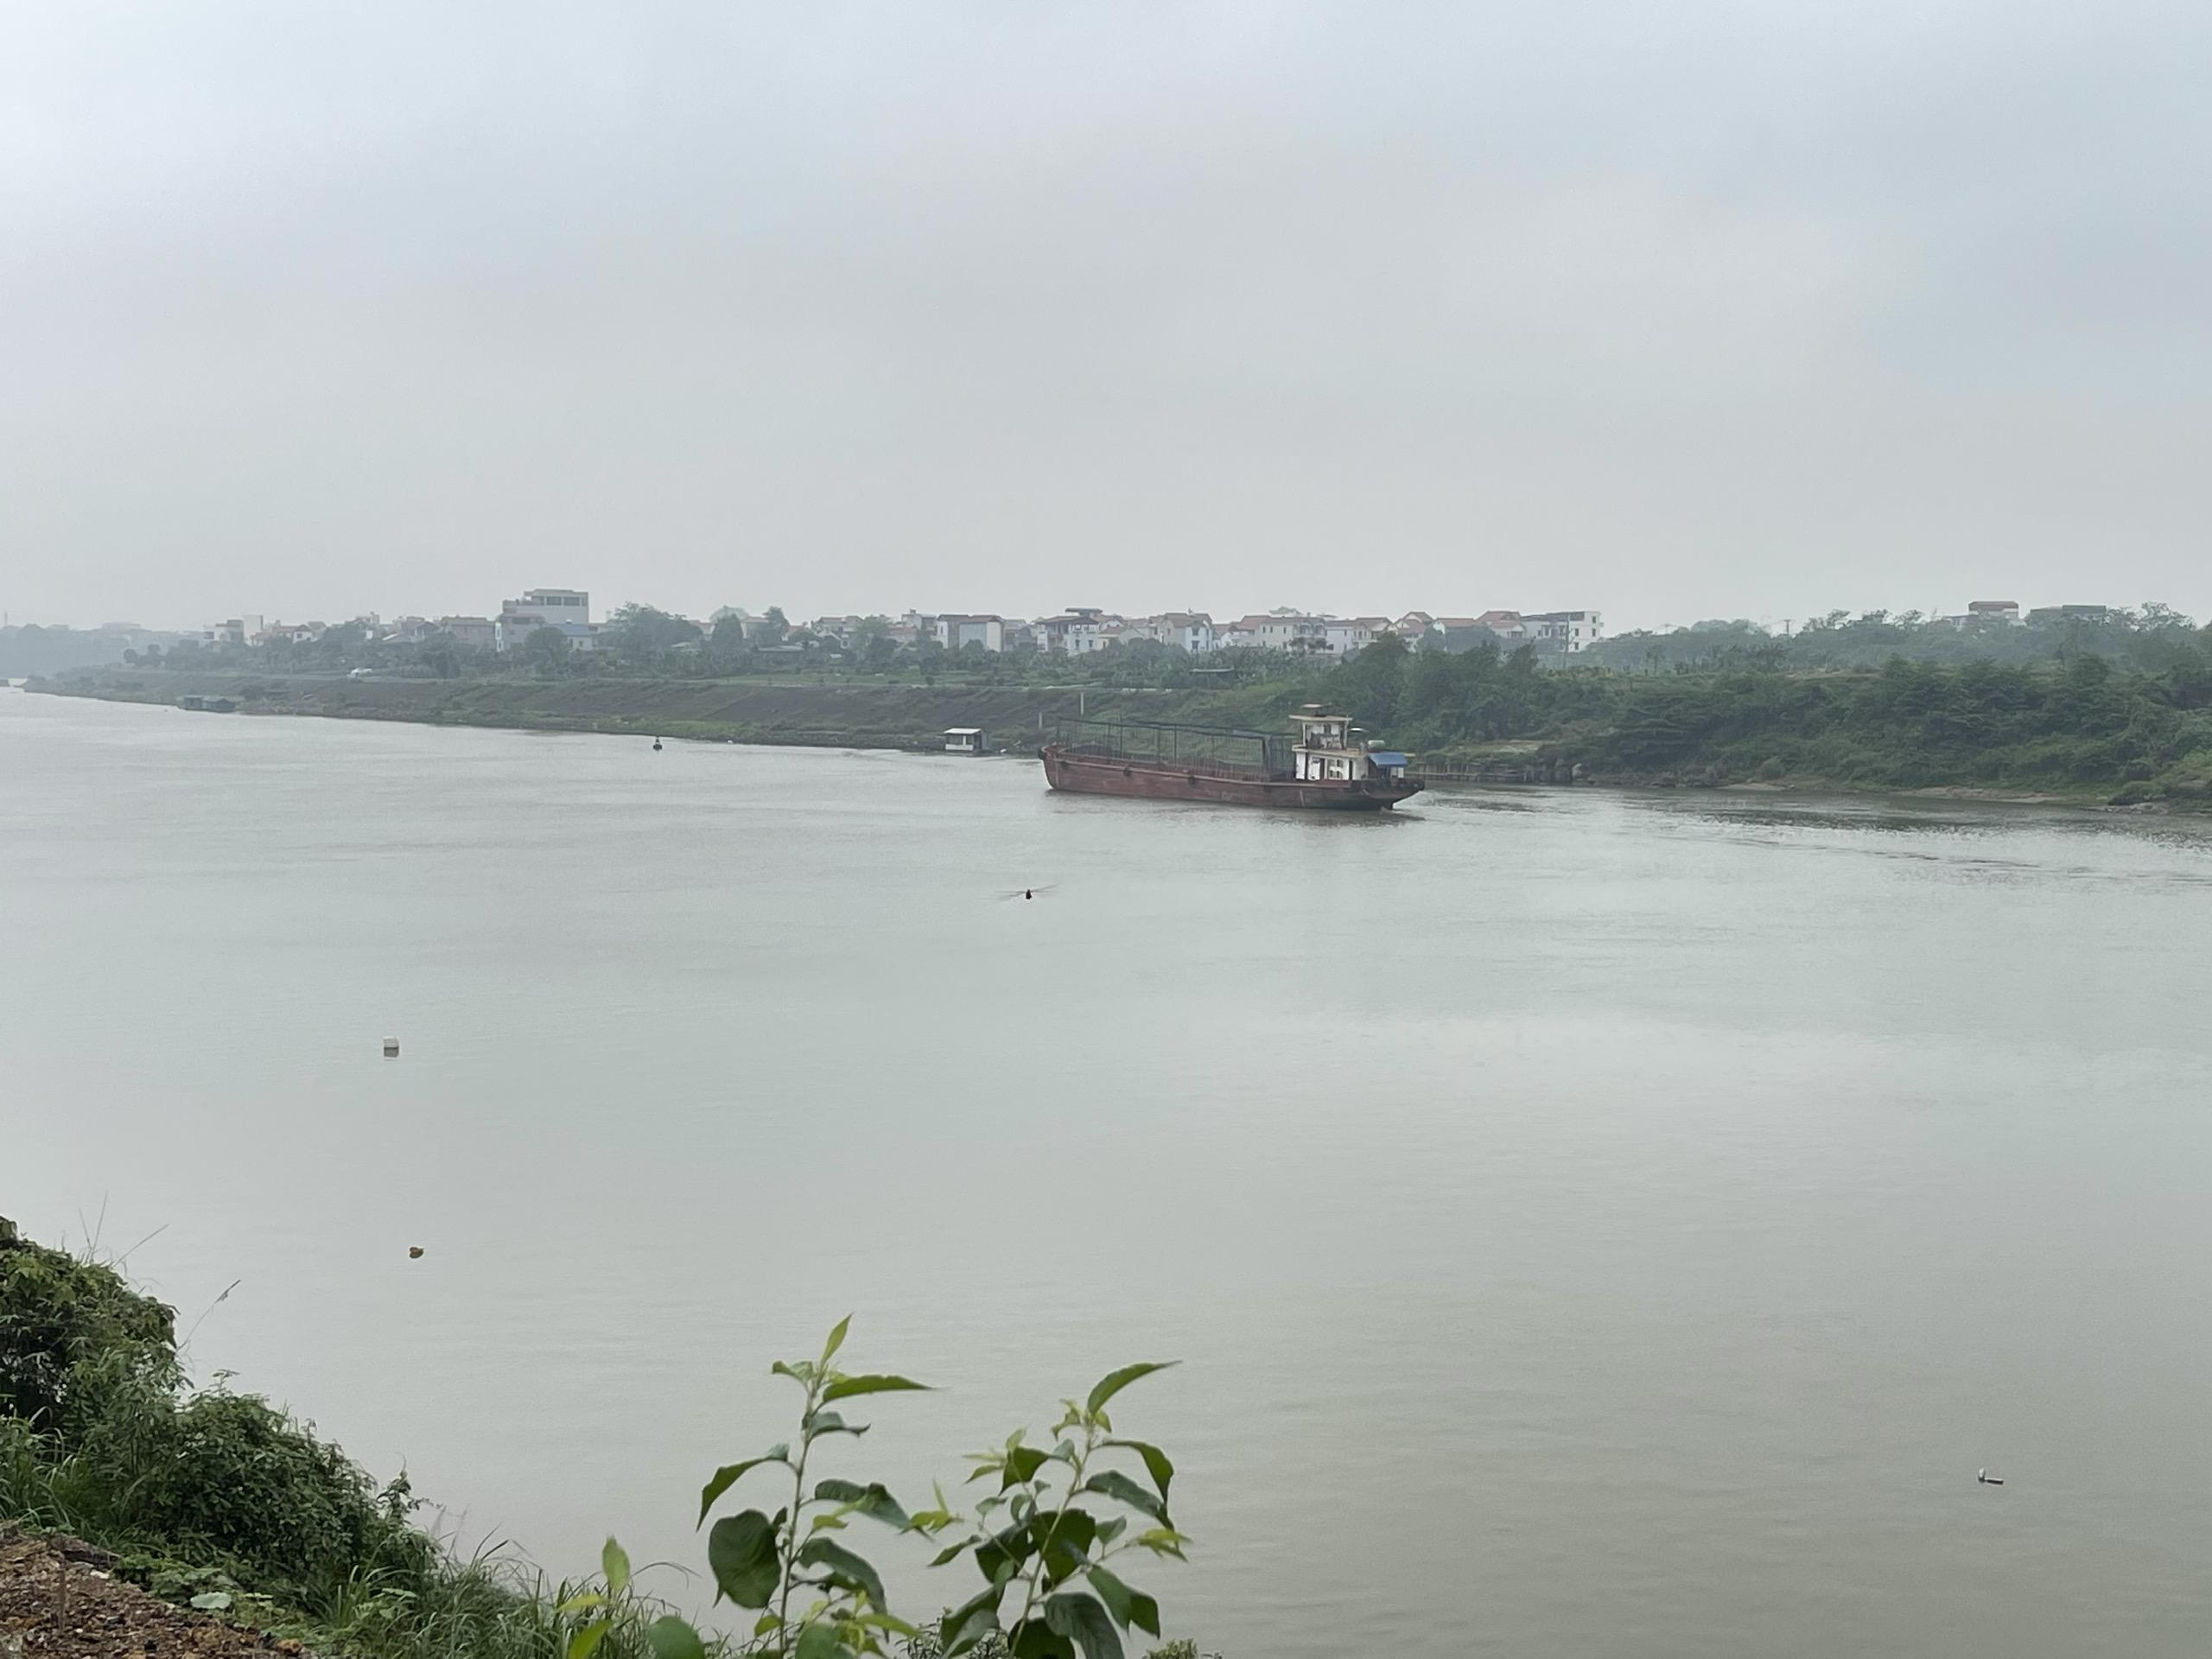Ship: (1038, 720, 1440, 823)
